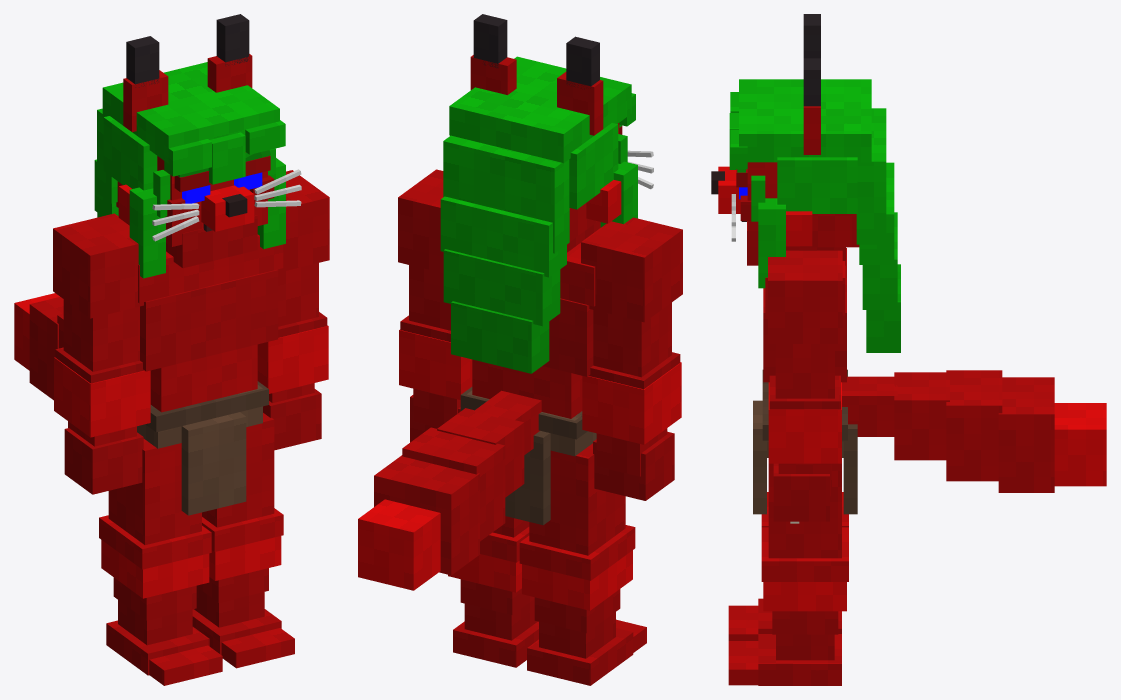
The model's file is beastfolk_s2.glb.
3 views of the same model, side by side, from view 1: azimuth 30°, elevation 25°; view 2: azimuth 150°, elevation 25°; view 3: azimuth 270°, elevation 25° (orthographic). The views are drawn at different scales.
Parts seen in each view (by area): view 1: Head, Torso, ArmR, LegR, LegL, ArmL; view 2: Head, Torso, ArmR, LegR, ArmL, LegL; view 3: Head, Torso, ArmL, LegL, LegR.
Boxes of the visible parts, x1,y1,x2,y2 form: Head: [94, 14, 301, 278]; Torso: [14, 234, 283, 515]; ArmR: [53, 213, 150, 494]; LegR: [99, 439, 222, 685]; LegL: [192, 413, 294, 668]; ArmL: [257, 170, 329, 450]; Head: [440, 14, 653, 373]; Torso: [358, 243, 596, 590]; ArmR: [581, 217, 682, 500]; LegR: [519, 443, 646, 685]; ArmL: [398, 169, 472, 442]; LegL: [448, 516, 538, 667]; Head: [711, 14, 900, 352]; Torso: [753, 248, 1106, 514]; ArmL: [768, 250, 842, 523]; LegL: [728, 463, 848, 685]; LegR: [728, 492, 848, 640].
Size of the model in its own units: 0.797 by 1.93 by 1.14.
Materials: 25 (25 with a texture image).
